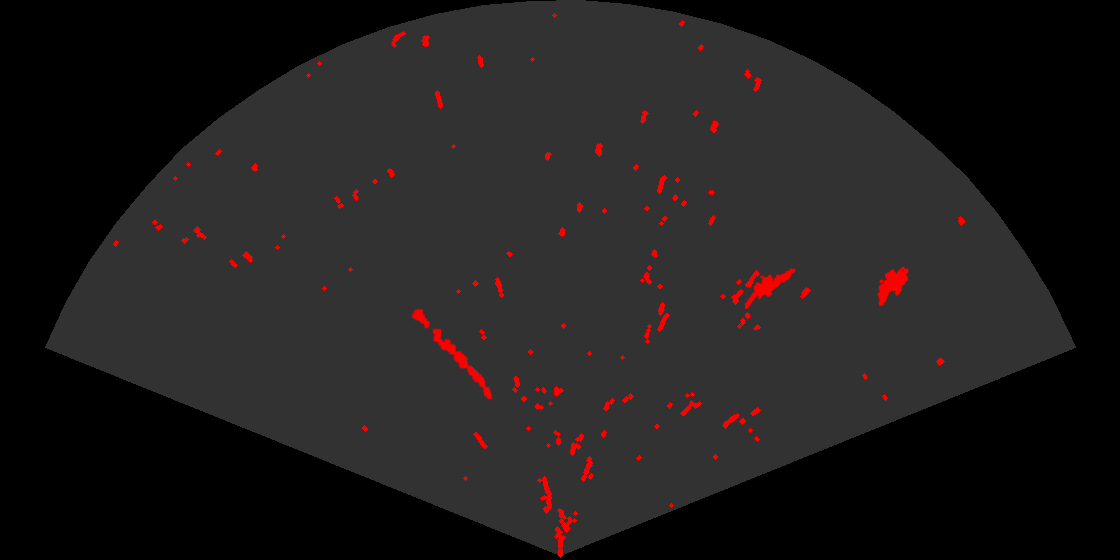AUV: (876, 265, 910, 308)
chain: (410, 307, 494, 401)
frogman: (745, 262, 799, 309)
